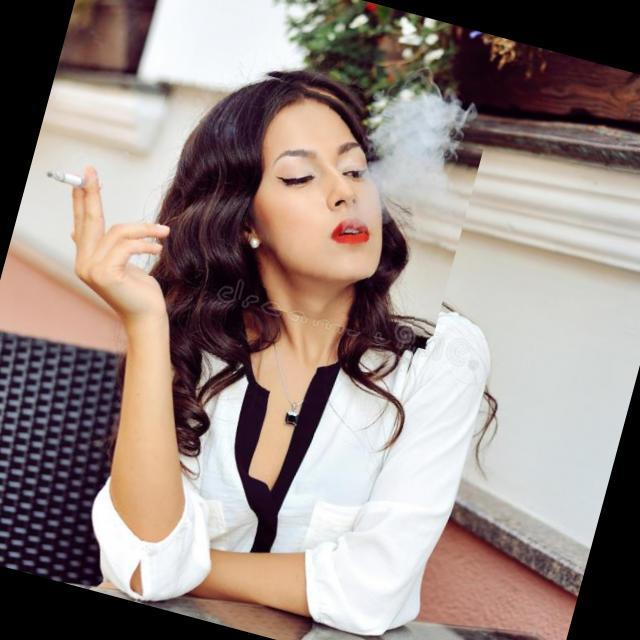cigarette: (30, 158, 97, 198)
